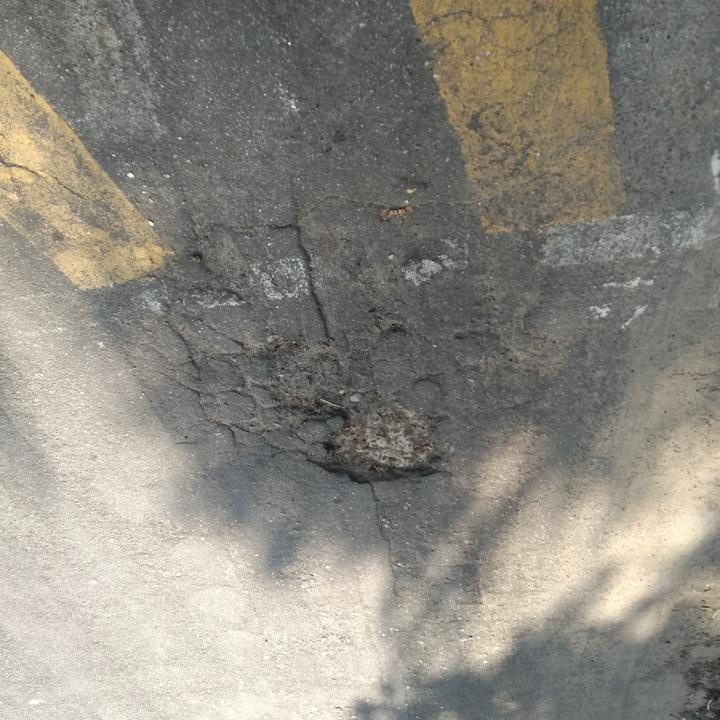pothole: (306, 395, 458, 487), (263, 338, 363, 422), (189, 216, 257, 297)
